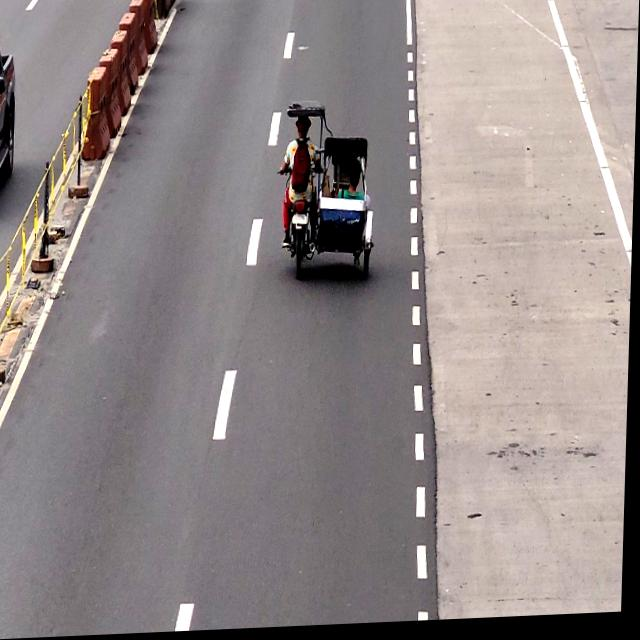Tricycle: (281, 100, 380, 289)
